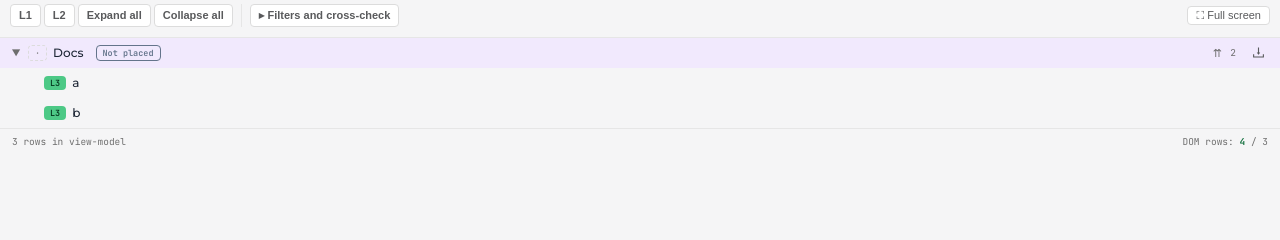
Test: filters and cross-check fold › opens and closes from the button, keeping aria-expanded in step
What coordinates should you click on to do the following:
click the button "▸ Filters and cross-check"
I would click on:
 (325, 15)
Its box is [250,4,399,26].
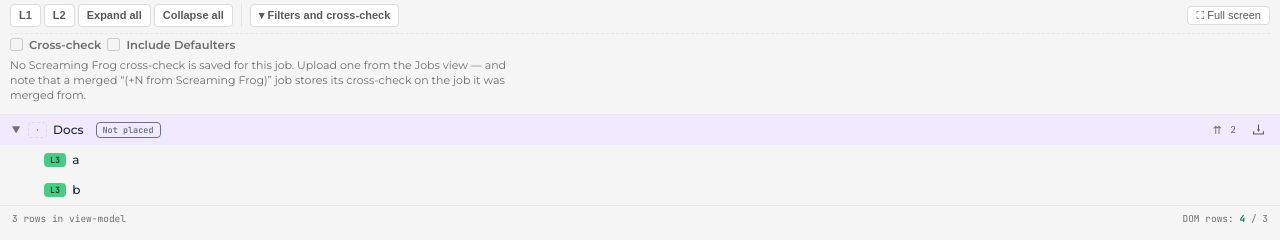
Check: the button "▾ Filters and cross-check" is expanded
Check: the checkbox labelled "Cross-check" is shown, box [10,38,23,51]
Check: the checkbox labelled "Include Defaulters" is shown, box [107,38,120,51]
What coordinates should you click on to do the following:
click the button "▾ Filters and cross-check"
I would click on:
 (325, 15)
Its box is [250,4,399,26].
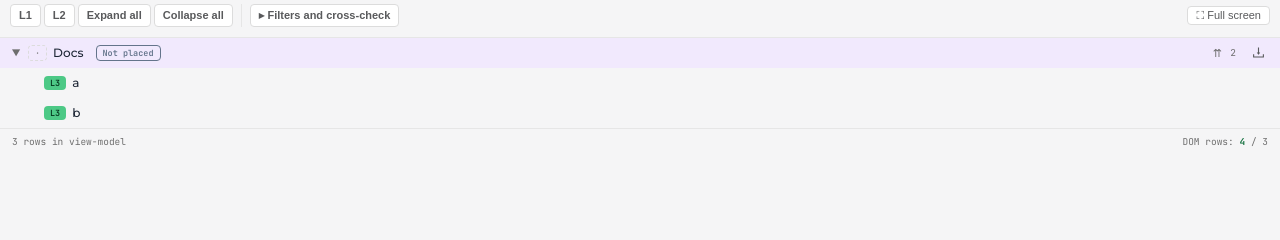
Check: the button "▸ Filters and cross-check" is collapsed, box [250,4,399,26]
